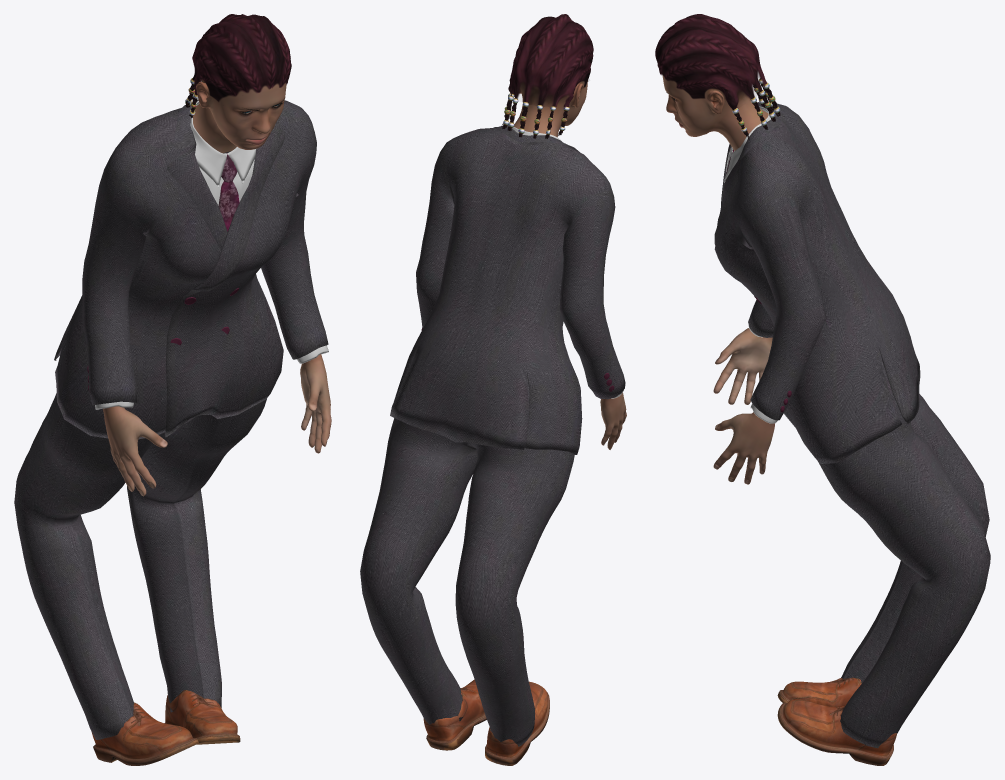
File: donna-02.glb
3 renders of one model, left to right at view 1: azimuth 30°, elevation 25°; view 2: azimuth 150°, elevation 25°; view 3: azimuth 270°, elevation 25°, orthographic. The views are drawn at different scales.
Parts seen in each view (by area): view 1: Human.toigo_female_double-breasted_suit, Human, Human.elvs_braided_rows, Human.shoes01; view 2: Human.toigo_female_double-breasted_suit, Human.elvs_braided_rows, Human.shoes01, Human; view 3: Human.toigo_female_double-breasted_suit, Human, Human.elvs_braided_rows, Human.shoes01.
Part boxes in pixels (x1,y1,x2,y2): Human.toigo_female_double-breasted_suit: [14, 99, 328, 739]; Human: [103, 79, 331, 496]; Human.elvs_braided_rows: [185, 14, 291, 118]; Human.shoes01: [91, 690, 240, 765]; Human.toigo_female_double-breasted_suit: [360, 125, 625, 746]; Human.elvs_braided_rows: [501, 14, 593, 138]; Human.shoes01: [423, 679, 549, 765]; Human: [514, 80, 626, 449]; Human.toigo_female_double-breasted_suit: [714, 102, 990, 748]; Human: [662, 75, 775, 484]; Human.elvs_braided_rows: [655, 14, 780, 140]; Human.shoes01: [777, 677, 896, 765].
Bounding box in the file's own units: 0.4796 × 1.58 × 0.6618.
Materials: 12 (12 with a texture image).
